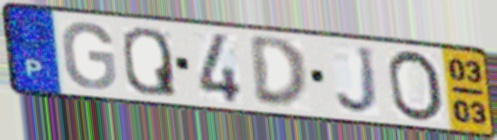4: (196, 32, 244, 106)
D: (246, 35, 312, 112)
G: (59, 20, 119, 92)
J: (333, 45, 383, 118)
O: (385, 48, 447, 124)
Q: (120, 25, 180, 100)
